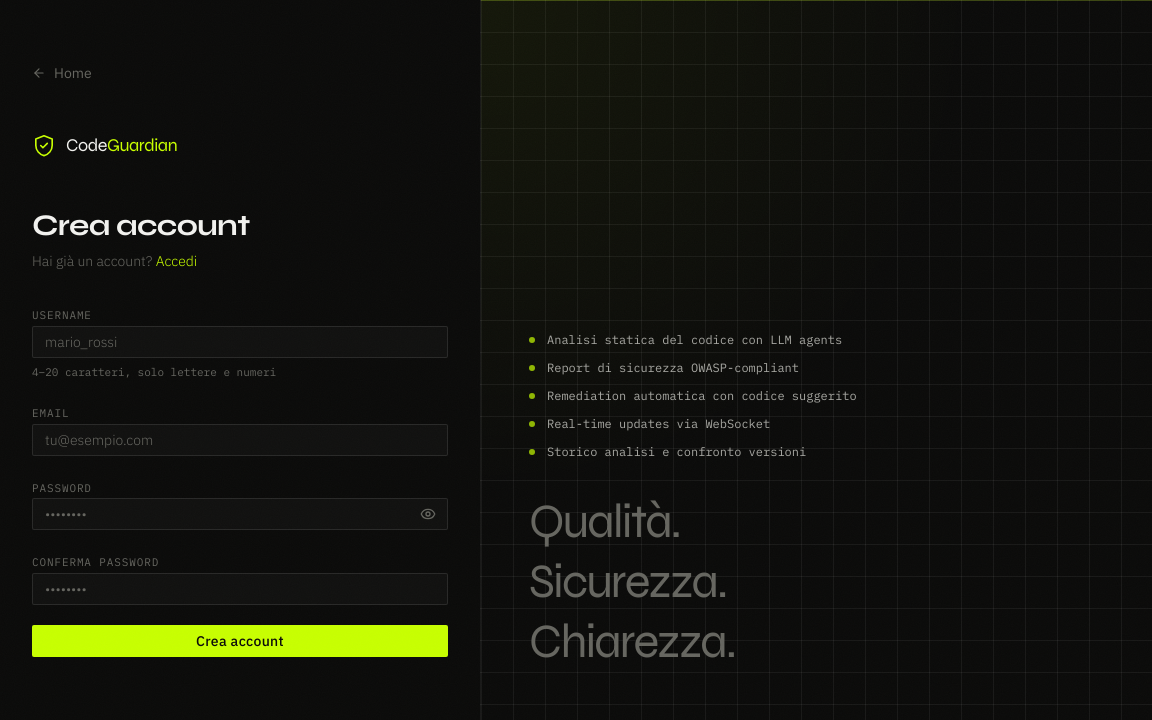
RegisterPage › blocks submission and shows username error when all fields are empty
Click the button "Crea account".
click(240, 641)  # box [32, 625, 448, 657]
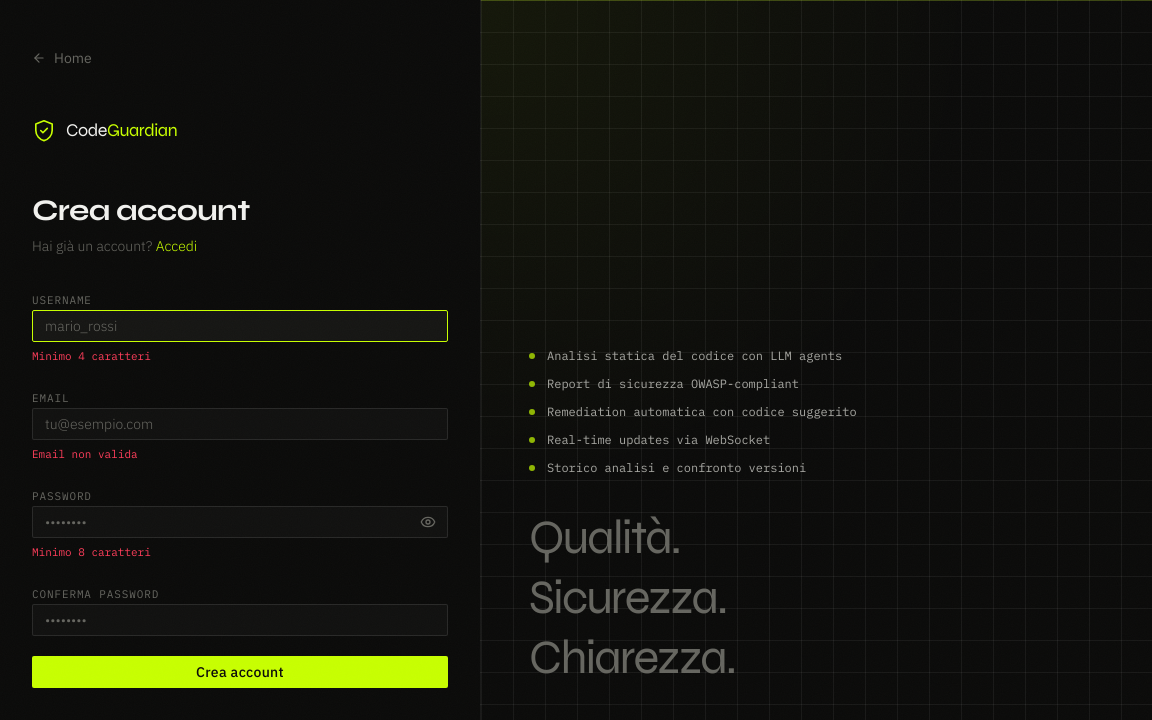
Now the text "Minimo 4 caratteri" is shown, box [32, 349, 151, 363]
